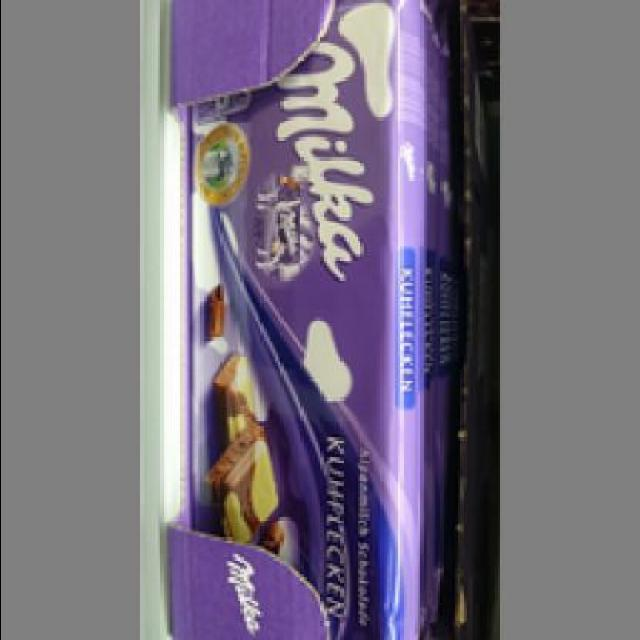Chocolate bar: (183, 1, 426, 637)
